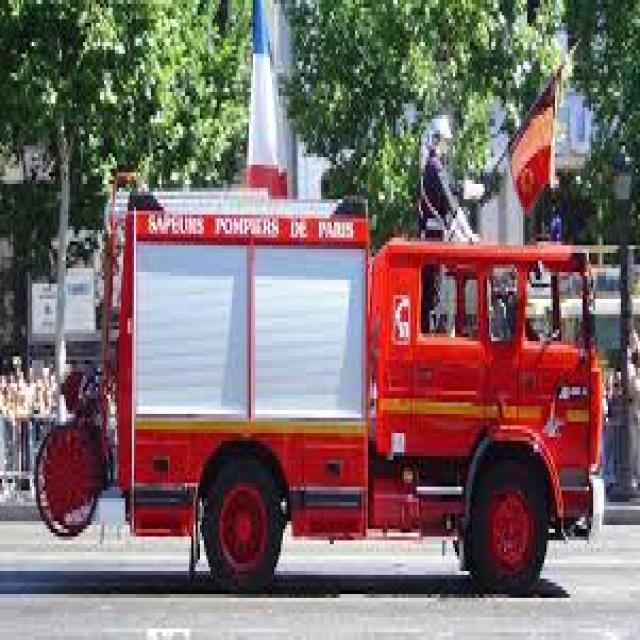Fire_brigade: (98, 161, 610, 594)
